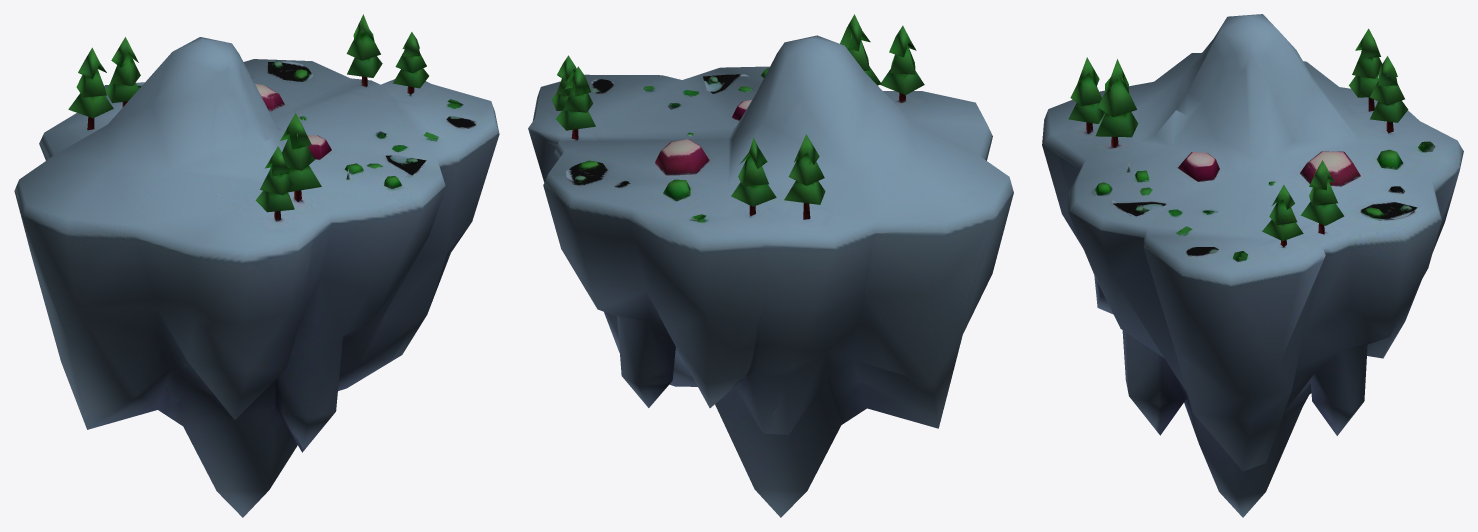
Rendered from tripo_convert_cdf354cd-643a-4eda-8dac-3fa617499a88.fbx.
3 renders of one model, left to right at view 1: azimuth 30°, elevation 25°; view 2: azimuth 150°, elevation 25°; view 3: azimuth 270°, elevation 25°, orthographic.
Parts seen in each view (by area): view 1: tripo_node_cdf354cd; view 2: tripo_node_cdf354cd; view 3: tripo_node_cdf354cd.
Part boxes in pixels (x1,y1,x2,y2): tripo_node_cdf354cd: [14, 14, 499, 517]; tripo_node_cdf354cd: [528, 14, 1013, 517]; tripo_node_cdf354cd: [1042, 14, 1463, 517].
Size of the model in its own units: 0.998 by 0.998 by 0.7871.
1 material, 1 textured.
